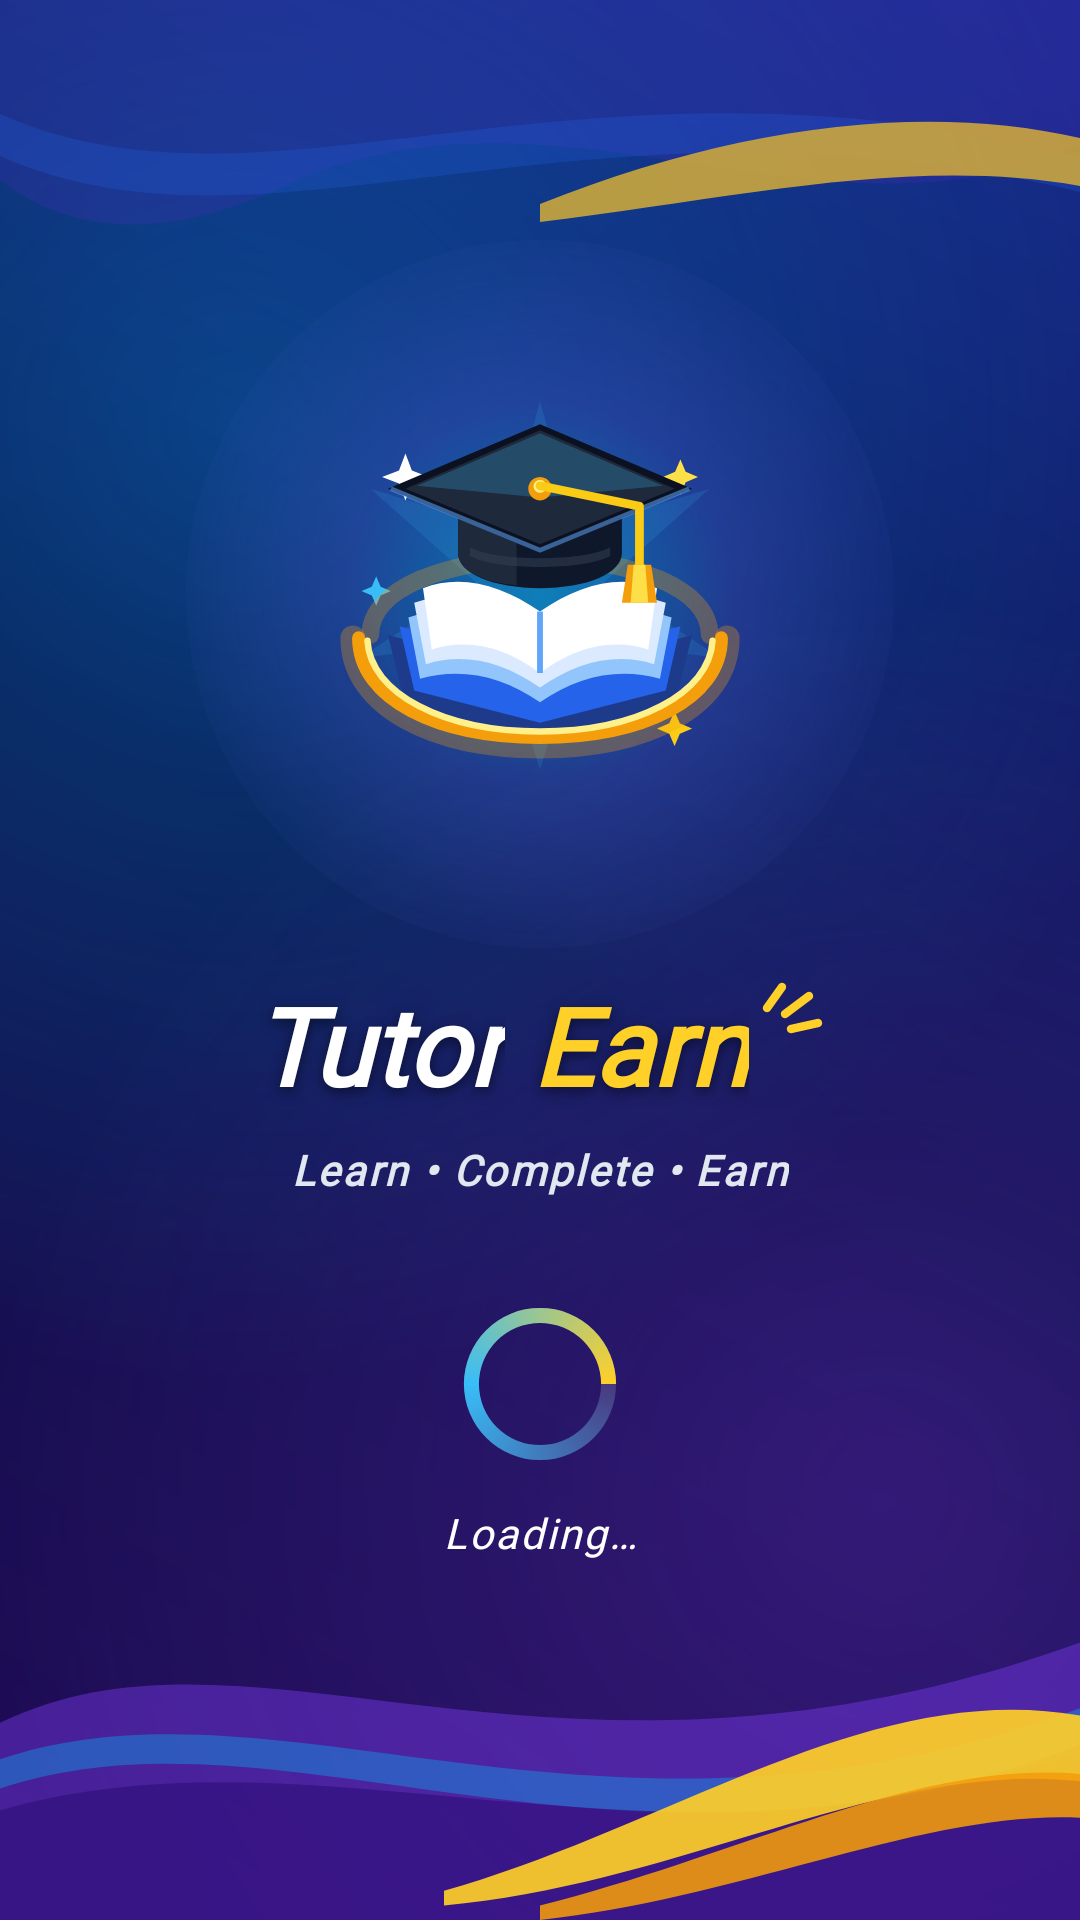

Icon bounding boxes for this 1080w x 1920h phone screenshot, format (x1, y1, x2, y2):
brand burst: (762, 982, 823, 1034)
